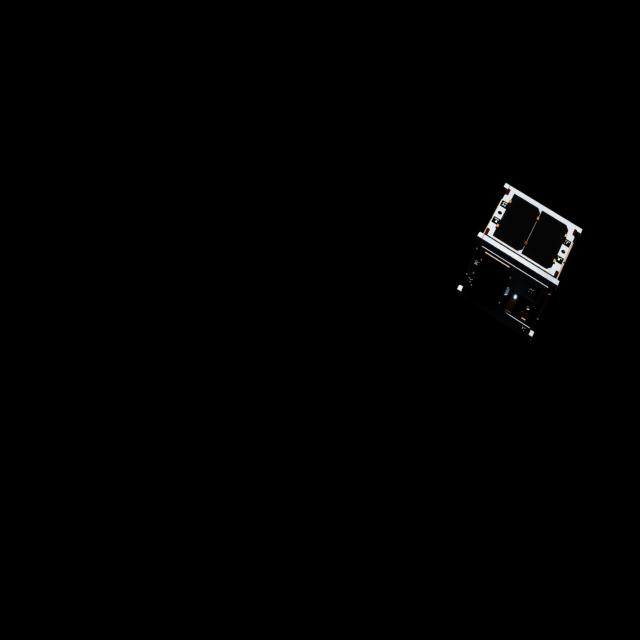medium_debris: (443, 178, 591, 336)
